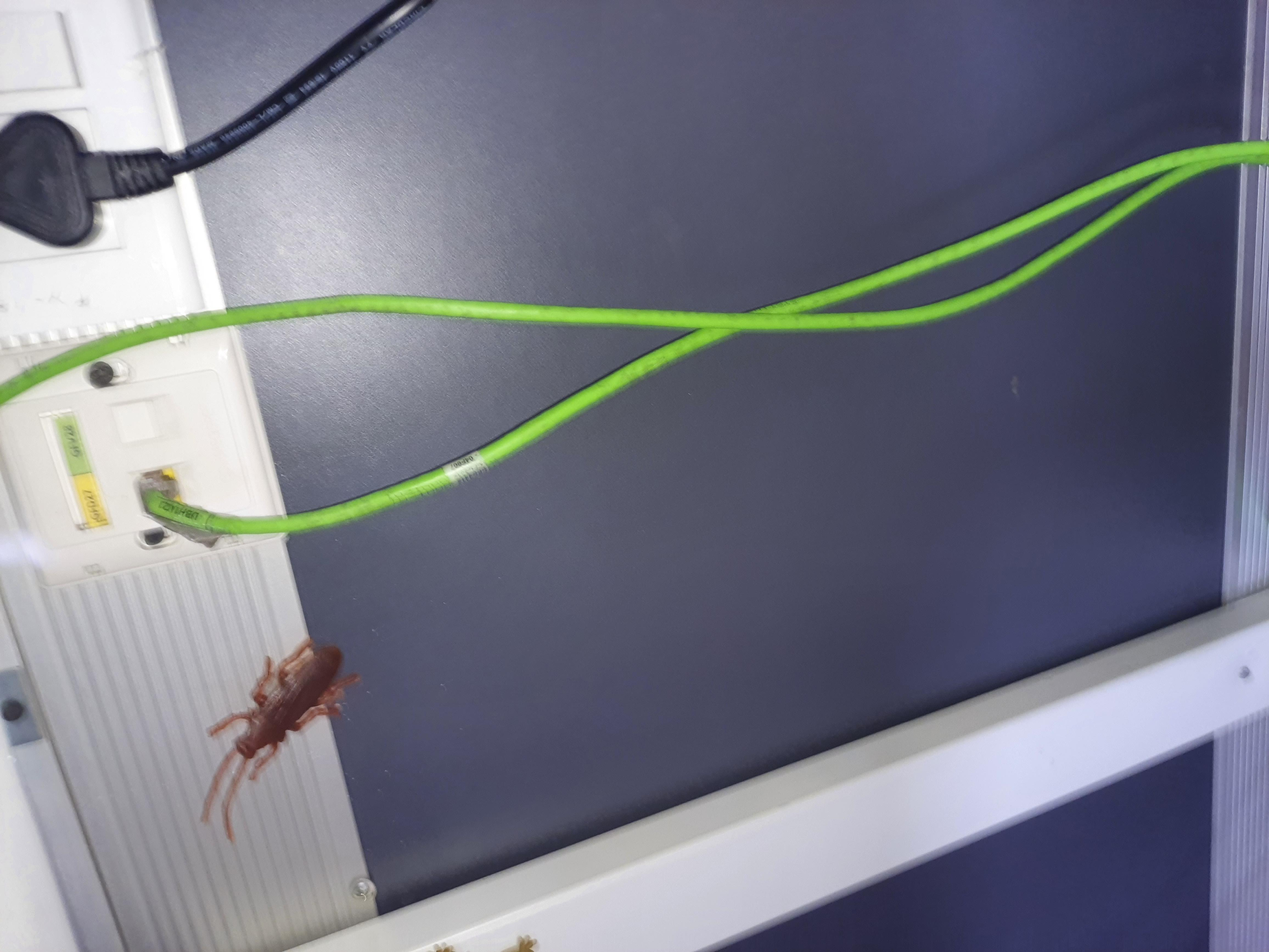cockroach: (147, 140, 445, 270)
